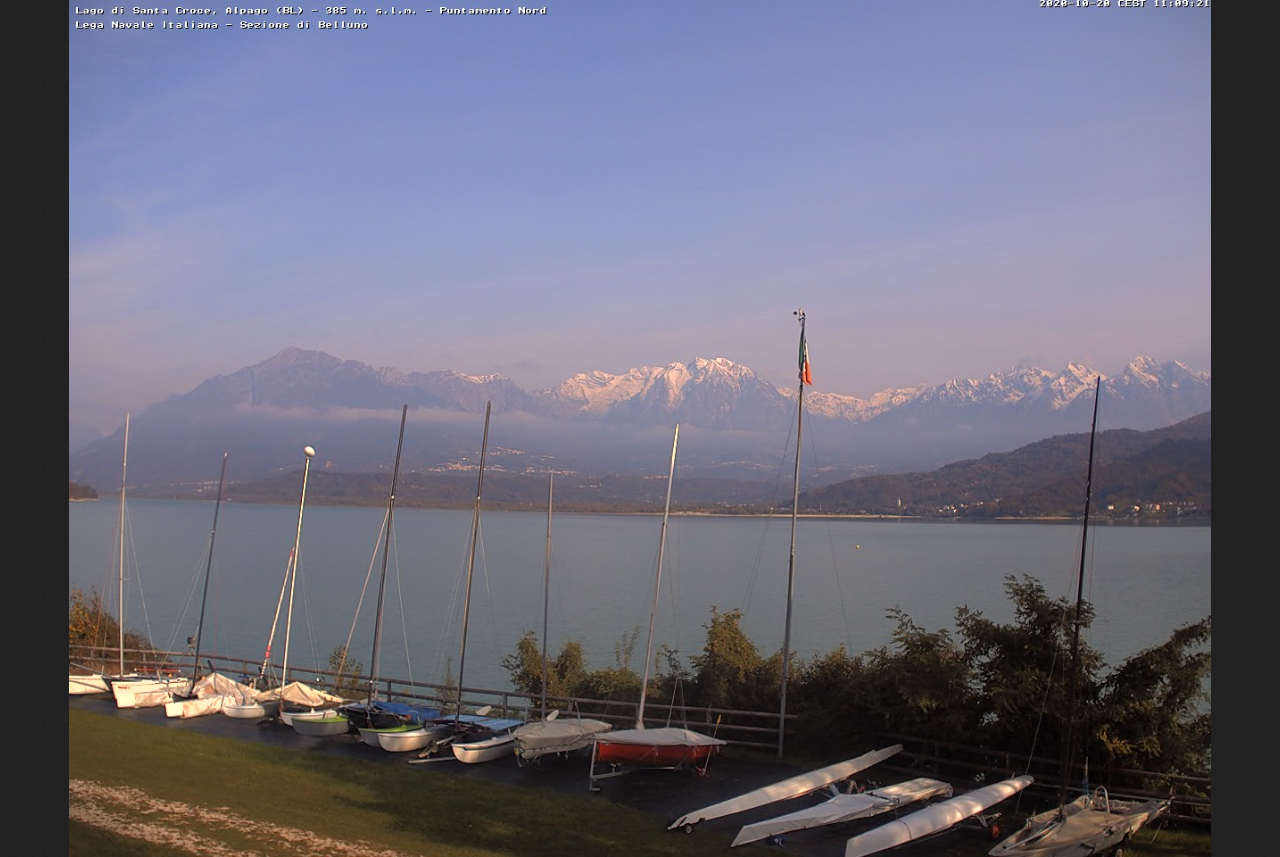no: (795, 326, 815, 387)
